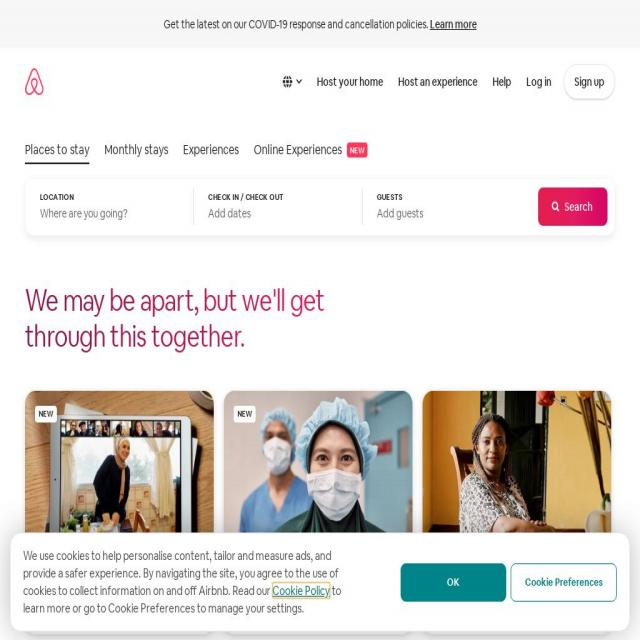login-option: (524, 70, 555, 97)
navigation-blocks: (17, 368, 615, 538)
navigation-links: (19, 137, 371, 165), (275, 60, 515, 97)
search: (20, 177, 620, 253)
sign-up-option: (565, 66, 614, 102)
